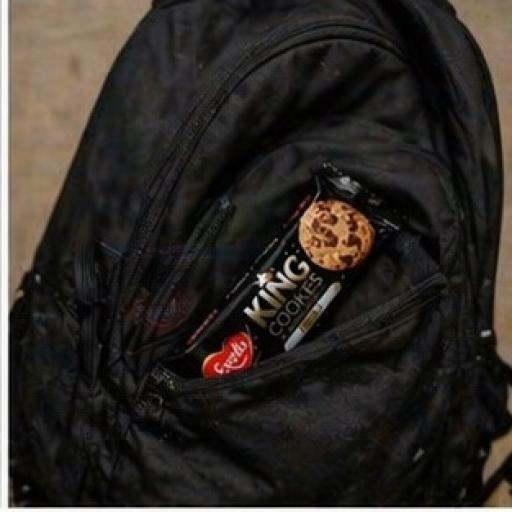king_cooking: (166, 93, 476, 434)
